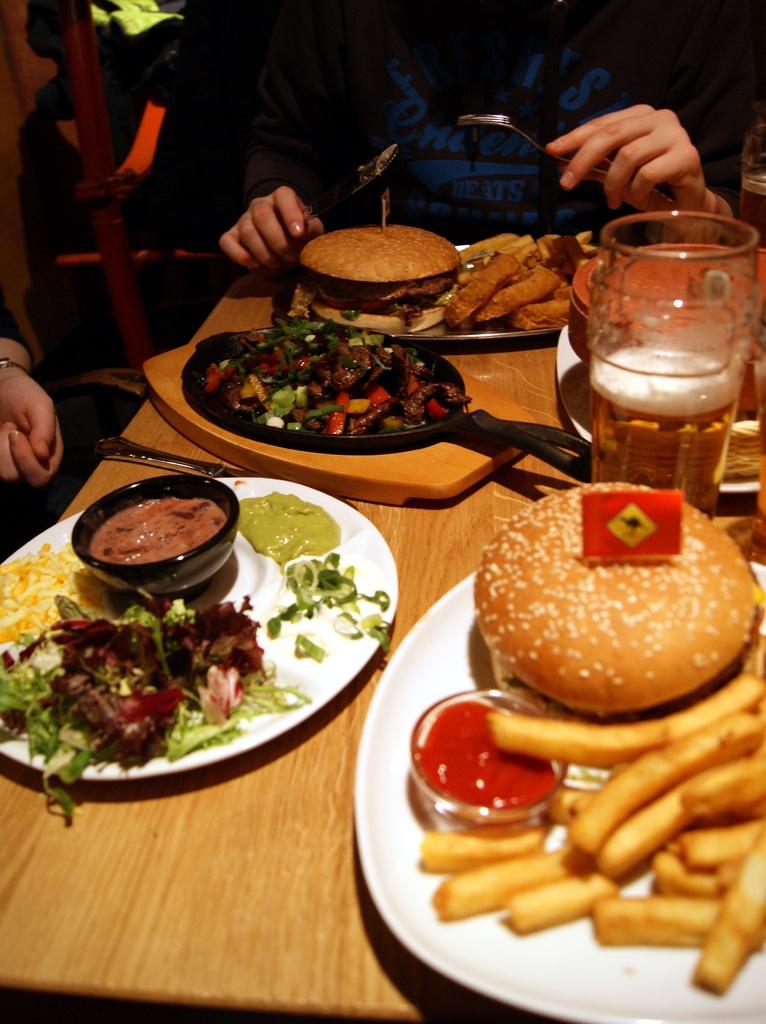Hamburger: (473, 480, 757, 719), (299, 224, 464, 332)
